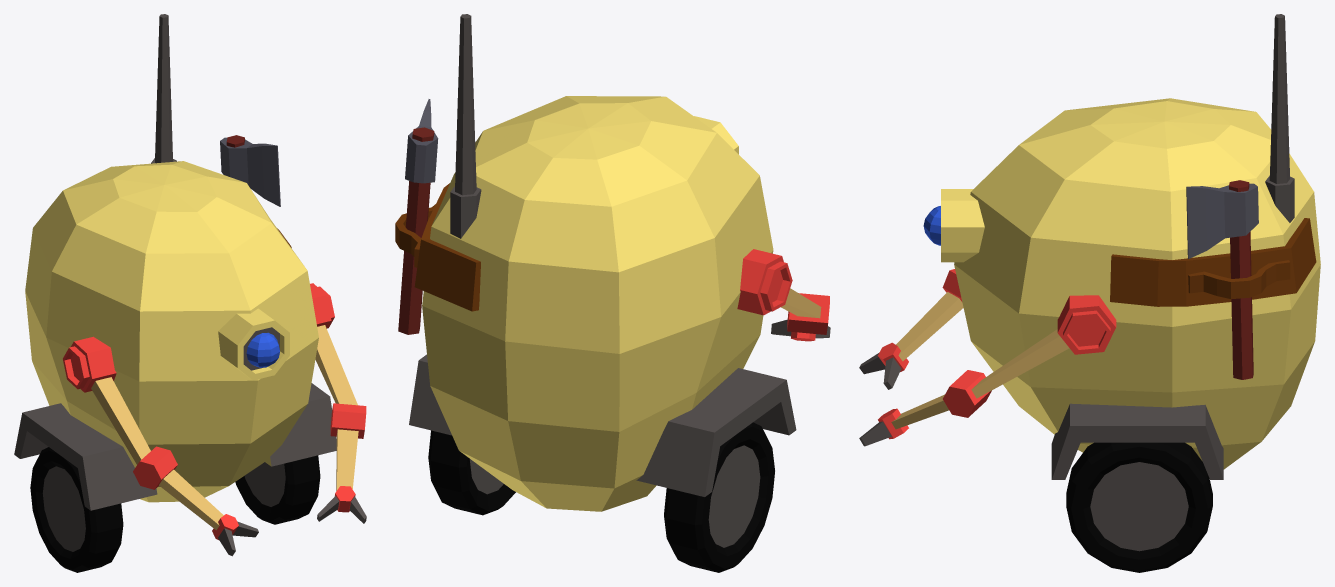
Rendered from robot.fbx.
The picture shows the model from 3 angles, left to right: view 1: azimuth 30°, elevation 25°; view 2: azimuth 150°, elevation 25°; view 3: azimuth 270°, elevation 25°; orthographic projection. The views are drawn at different scales.
Visible parts, largest first — view 1: MainBody, Wheels, LeftArm, RightArm, Axe; view 2: MainBody, Wheels, LeftArm, Axe; view 3: MainBody, Wheels, RightArm, Axe, LeftArm.
Part boxes in pixels (<box>): MainBody: <box>14,14,336,510</box>; Wheels: <box>30,447,320,572</box>; LeftArm: <box>63,336,258,556</box>; RightArm: <box>310,283,366,523</box>; Axe: <box>220,135,280,206</box>; MainBody: <box>395,14,796,511</box>; Wheels: <box>428,422,774,572</box>; LeftArm: <box>737,249,830,341</box>; Axe: <box>398,99,438,334</box>; MainBody: <box>923,14,1320,479</box>; Wheels: <box>1066,442,1212,572</box>; RightArm: <box>859,295,1116,446</box>; Axe: <box>1186,180,1258,379</box>; LeftArm: <box>859,269,963,389</box>.
Bounding box in the file's own units: 148 × 261 × 209.
